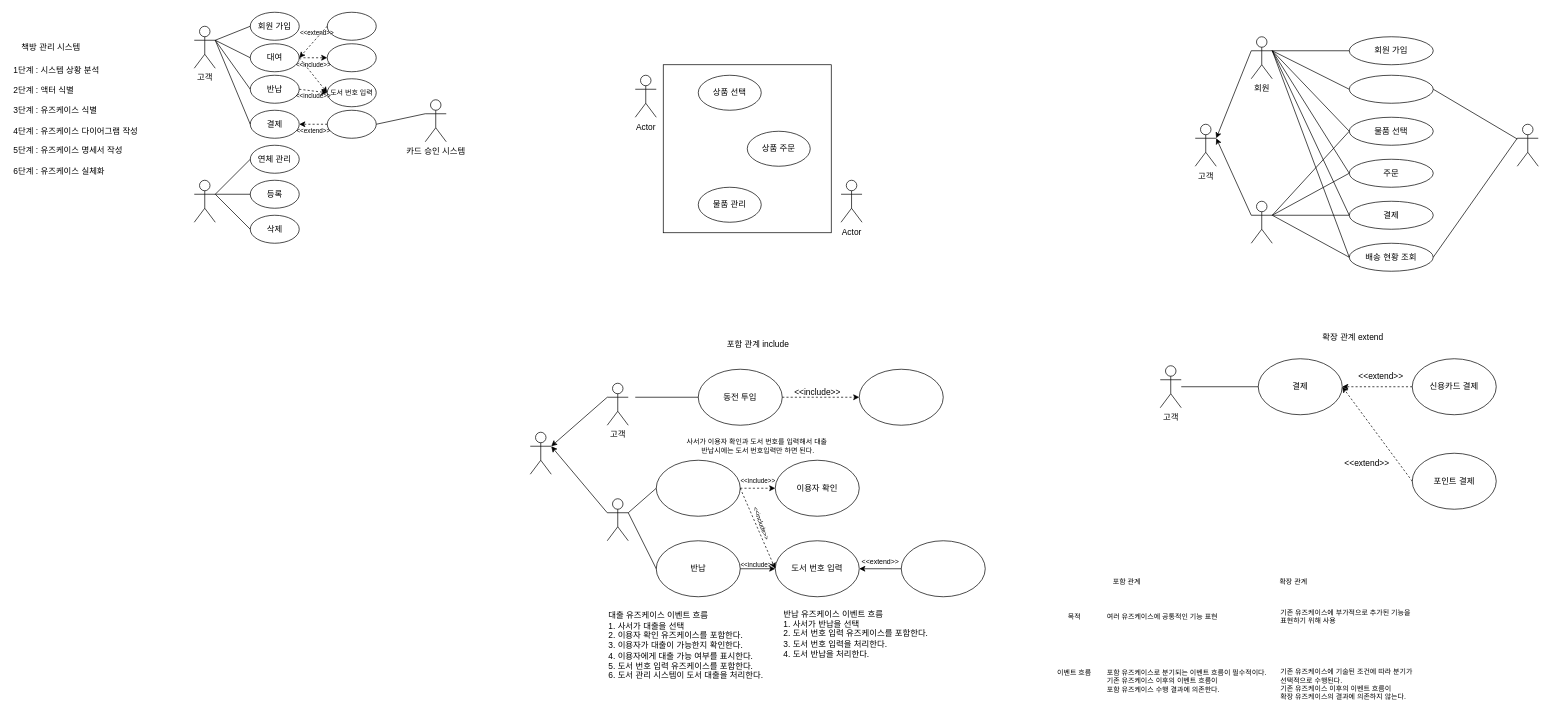
Some shapes in this 1564 by 718 pixel diagram are drawn without their labels. Each missing label, with the centre of its shape:
"관리자" belongs at pixel 204 201.
"금액 표시" belongs at pixel 901 397.
"대여 가능 확인" belongs at pixel 351 26.
"대출" belongs at pixel 698 488.
"로그인" belongs at pixel 1391 89.
"비회원" belongs at pixel 1261 222.
"사서" belongs at pixel 617 519.
"쇼핑몰 관리자" belongs at pixel 1527 145.
"신용카드 지불" belongs at pixel 351 124.
"예약 가능 확인" belongs at pixel 943 568.
"이용자" belongs at pixel 540 453.
"회원 확인" belongs at pixel 351 57.
